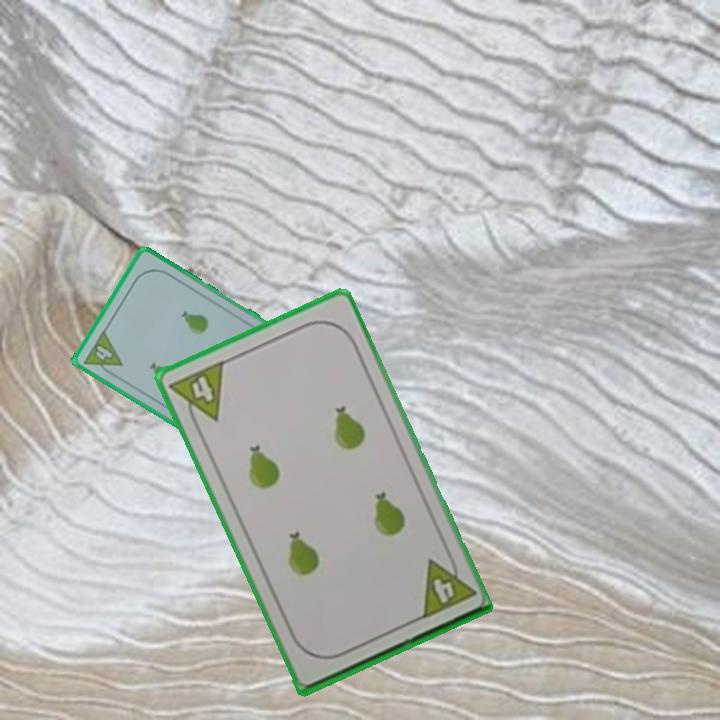4p: (165, 357, 227, 432), (416, 548, 477, 623), (80, 326, 125, 380)
